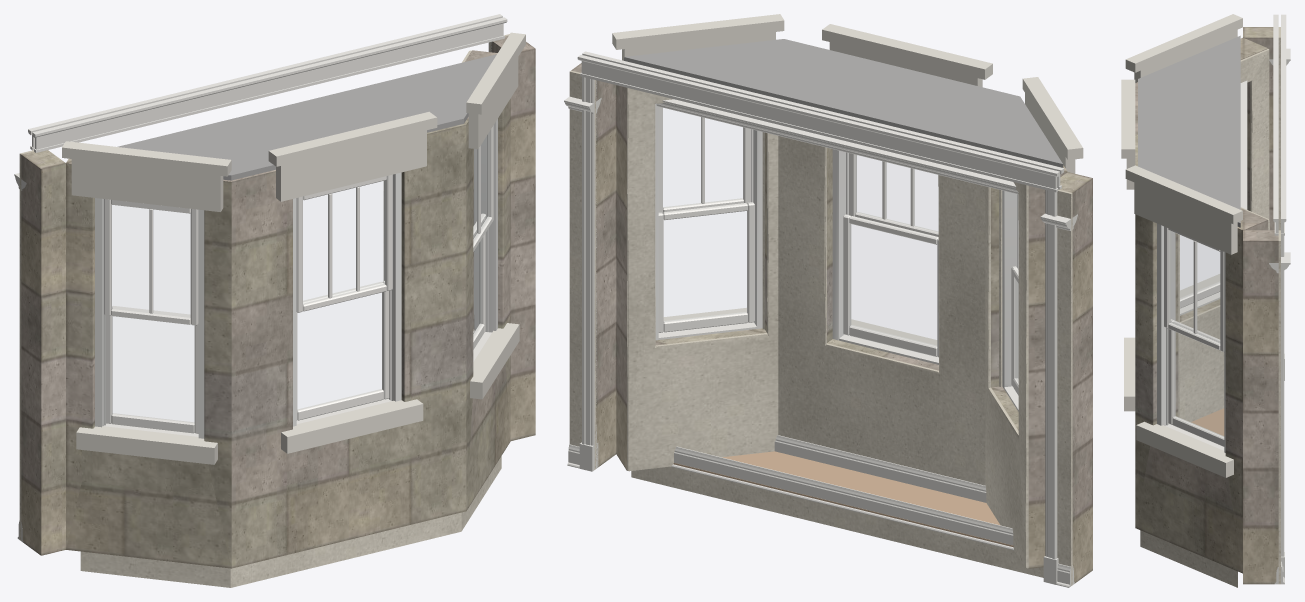
File: bay_b2.glb
3 renders of one model, left to right at view 1: azimuth 30°, elevation 25°; view 2: azimuth 150°, elevation 25°; view 3: azimuth 270°, elevation 25°, orthographic. The views are drawn at different scales.
Parts seen in each view (by area): view 1: bay_b2_grey, bay_b2_glass, bay_b2_lime, bay_b2_roof, bay_b2_sash, molduras, bay_b2_frame, bay_b2_plaster, bay_b2_trim; view 2: bay_b2_plaster, molduras, bay_b2_grey, bay_b2_glass, bay_b2_roof, bay_b2_lime, bay_b2_sash, bay_b2_frame, bay_b2_floor, bay_b2_trim; view 3: bay_b2_grey, bay_b2_roof, bay_b2_lime, bay_b2_plaster, bay_b2_glass, molduras, bay_b2_sash, bay_b2_frame, bay_b2_trim, bay_b2_floor.
Part boxes in pixels (x1,y1,x2,y2): bay_b2_grey: [21, 35, 535, 568]; bay_b2_glass: [112, 133, 489, 422]; bay_b2_lime: [62, 32, 525, 464]; bay_b2_roof: [117, 54, 496, 180]; bay_b2_sash: [104, 125, 493, 433]; molduras: [14, 14, 507, 542]; bay_b2_frame: [95, 119, 497, 438]; bay_b2_plaster: [19, 34, 509, 587]; bay_b2_trim: [104, 330, 491, 436]; bay_b2_plaster: [569, 70, 1072, 585]; molduras: [564, 51, 1077, 587]; bay_b2_grey: [571, 63, 1092, 583]; bay_b2_glass: [663, 108, 1017, 379]; bay_b2_roof: [624, 39, 1063, 167]; bay_b2_lime: [612, 14, 1083, 345]; bay_b2_sash: [658, 107, 1018, 395]; bay_b2_frame: [655, 104, 1018, 388]; bay_b2_floor: [673, 451, 1013, 547]; bay_b2_trim: [658, 322, 1018, 411]; bay_b2_grey: [1135, 27, 1278, 584]; bay_b2_roof: [1138, 35, 1240, 227]; bay_b2_lime: [1121, 14, 1242, 477]; bay_b2_plaster: [1140, 27, 1280, 587]; bay_b2_glass: [1170, 231, 1223, 436]; molduras: [1240, 14, 1290, 584]; bay_b2_sash: [1164, 226, 1224, 446]; bay_b2_frame: [1157, 223, 1225, 452]; bay_b2_trim: [1166, 292, 1224, 450]; bay_b2_floor: [1191, 408, 1224, 435].
Bounding box in the file's own units: 4 × 3.33 × 1.33.
Materials: 9 (2 with a texture image).
